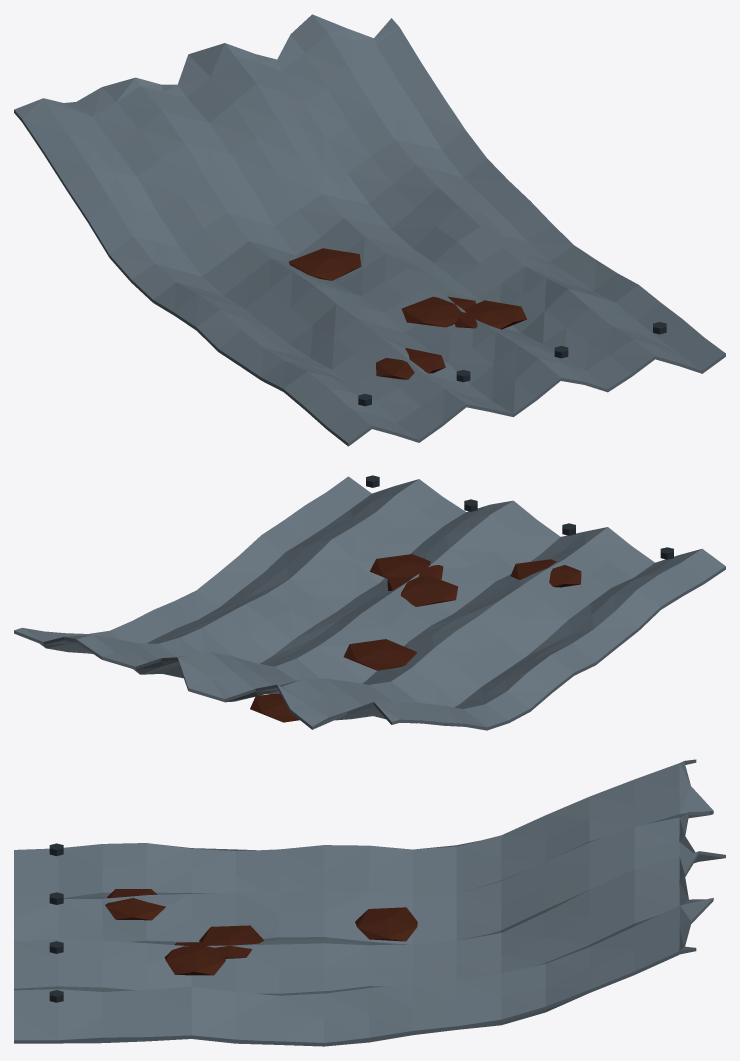
The model's file is DEBRIS_10_MetalSheet.obj.
3 views of the same model, one above another, from view 1: azimuth 30°, elevation 25°; view 2: azimuth 150°, elevation 25°; view 3: azimuth 270°, elevation 25° (orthographic). The views are drawn at different scales.
Visible parts, largest first — view 1: DEBRIS_10_MetalSheet_Sheet, DEBRIS_10_MetalSheet_Rust_Patches; view 2: DEBRIS_10_MetalSheet_Sheet, DEBRIS_10_MetalSheet_Rust_Patches, DEBRIS_10_MetalSheet_Fasteners; view 3: DEBRIS_10_MetalSheet_Sheet, DEBRIS_10_MetalSheet_Rust_Patches, DEBRIS_10_MetalSheet_Fasteners.
Boxes of the visible parts, bbox=[...] form: DEBRIS_10_MetalSheet_Sheet: bbox=[14, 14, 725, 446]; DEBRIS_10_MetalSheet_Rust_Patches: bbox=[289, 248, 526, 379]; DEBRIS_10_MetalSheet_Sheet: bbox=[14, 476, 725, 730]; DEBRIS_10_MetalSheet_Rust_Patches: bbox=[250, 554, 581, 722]; DEBRIS_10_MetalSheet_Fasteners: bbox=[366, 475, 673, 559]; DEBRIS_10_MetalSheet_Sheet: bbox=[14, 759, 725, 1046]; DEBRIS_10_MetalSheet_Rust_Patches: bbox=[105, 889, 417, 975]; DEBRIS_10_MetalSheet_Fasteners: bbox=[49, 843, 63, 1002].
Size of the model in its own units: 1 by 0.3114 by 1.6.
